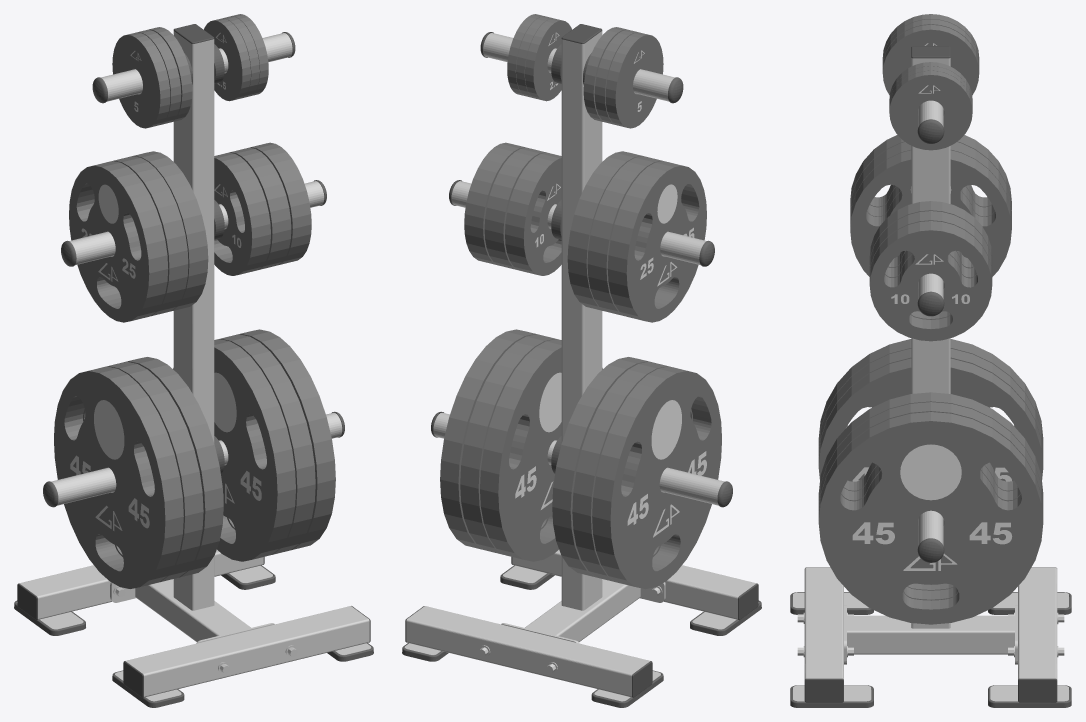
The model's file is barbell1.glb.
The picture shows the model from 3 angles, left to right: view 1: azimuth 30°, elevation 25°; view 2: azimuth 150°, elevation 25°; view 3: azimuth 270°, elevation 25°; orthographic projection.
Visible parts, largest first — view 1: Object001_15.001, Object005_3.001; view 2: Object001_15.001, Object005_3.001; view 3: Object001_15.001, Object005_3.001.
Part boxes in pixels (bbox=[...]): Object001_15.001: bbox=[14, 14, 373, 707]; Object005_3.001: bbox=[51, 33, 342, 673]; Object001_15.001: bbox=[402, 14, 761, 707]; Object005_3.001: bbox=[433, 33, 724, 673]; Object001_15.001: bbox=[790, 14, 1071, 707]; Object005_3.001: bbox=[797, 100, 1064, 657].
Bounding box in the file's own units: 0.6489 × 1.27 × 0.5312.
2 materials, 2 textured.
